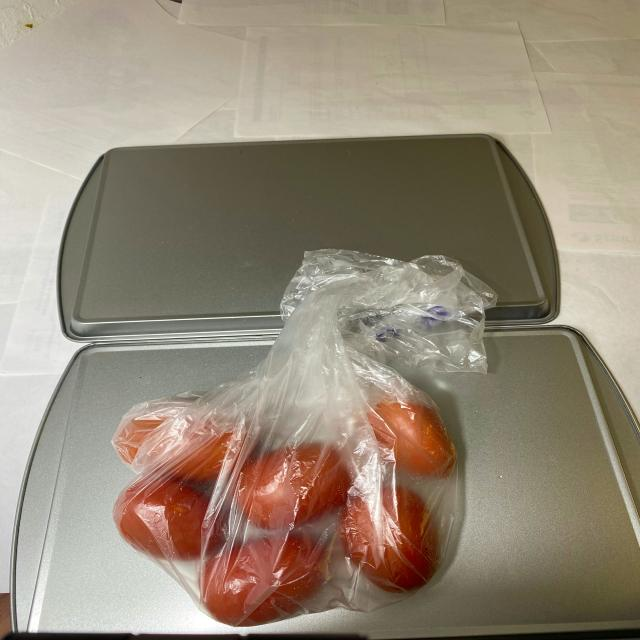tomato: (111, 383, 468, 624)
